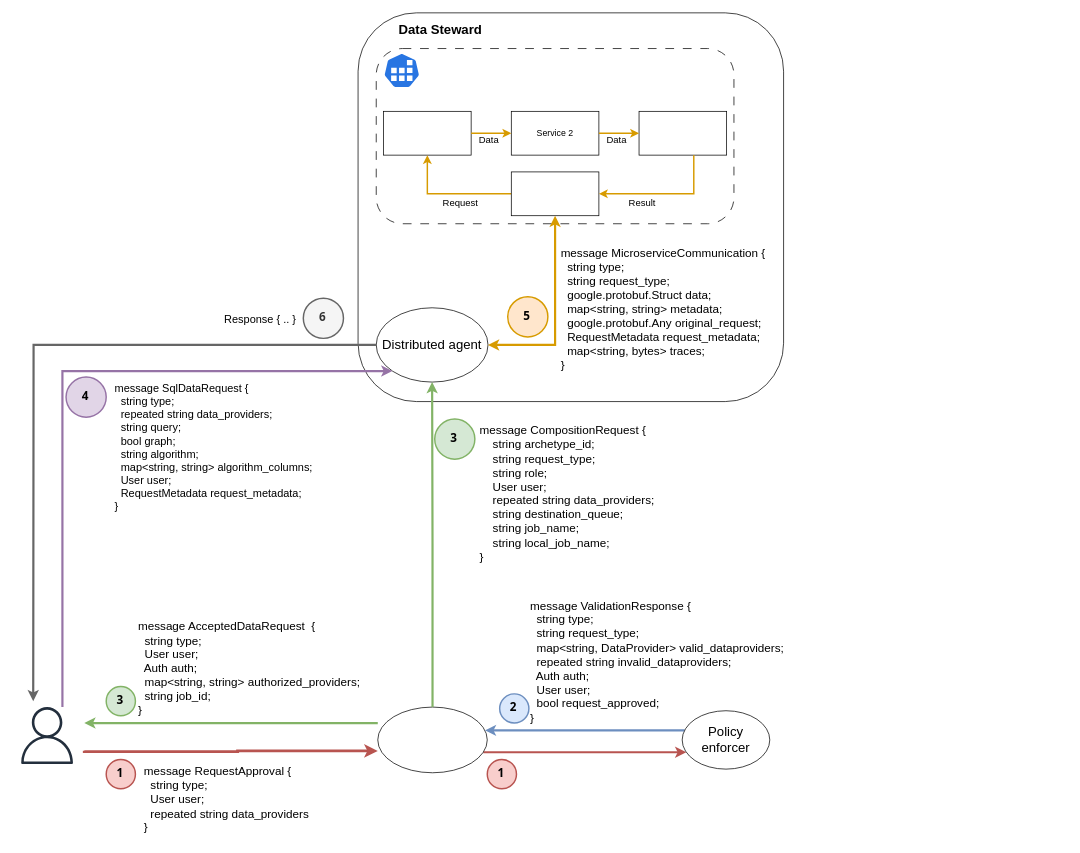
This 1080x853 diagram has some shape labels left out. Here are the shapes that lost their labels. From the top down, the centre of each, then its label:
At (x=401, y=70): "Job".
At (x=427, y=133): "Service 1".
At (x=682, y=133): "Service 3".
At (x=555, y=193): "Sidecar".
At (x=46, y=735): "Data analyst".
At (x=432, y=739): "Orchestrator".
